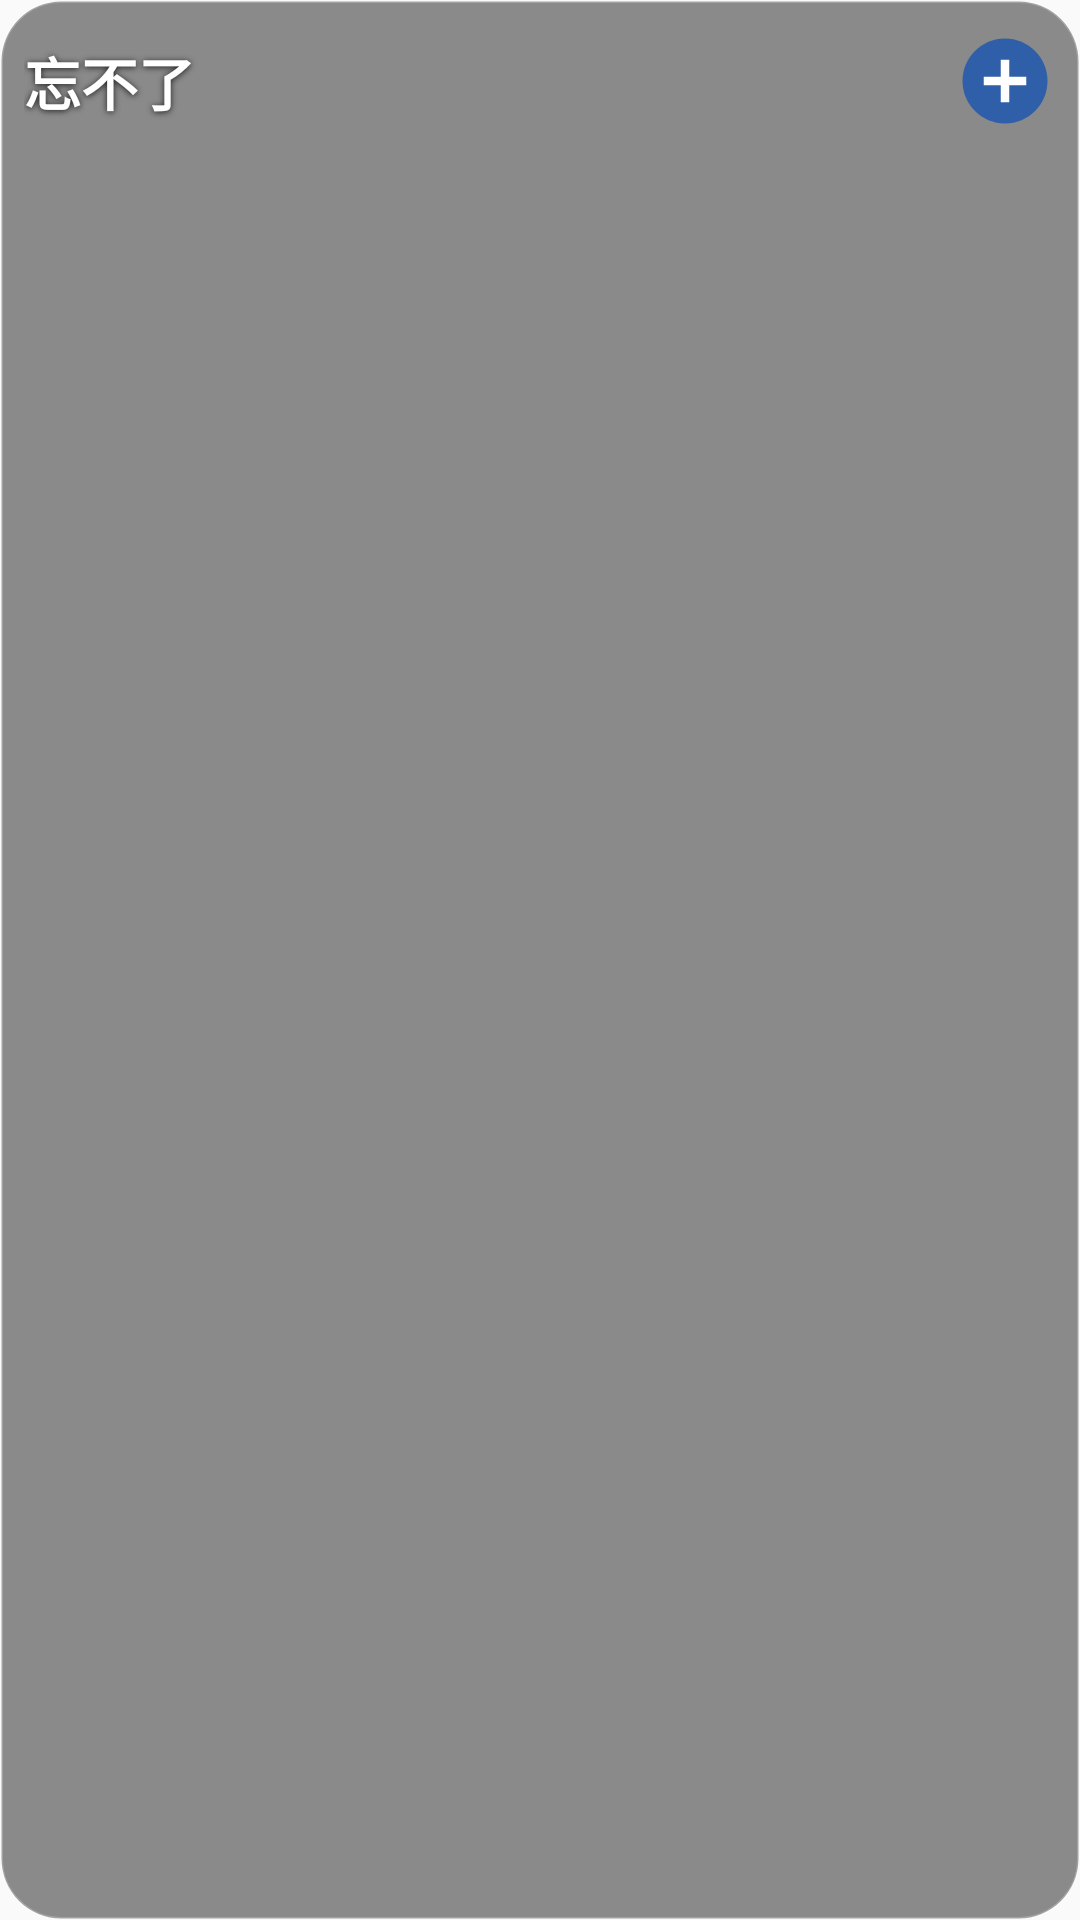

Icon click points for this 1080*1920 phone screenshot, format [x,y]:
快速新增: [1005,81]
